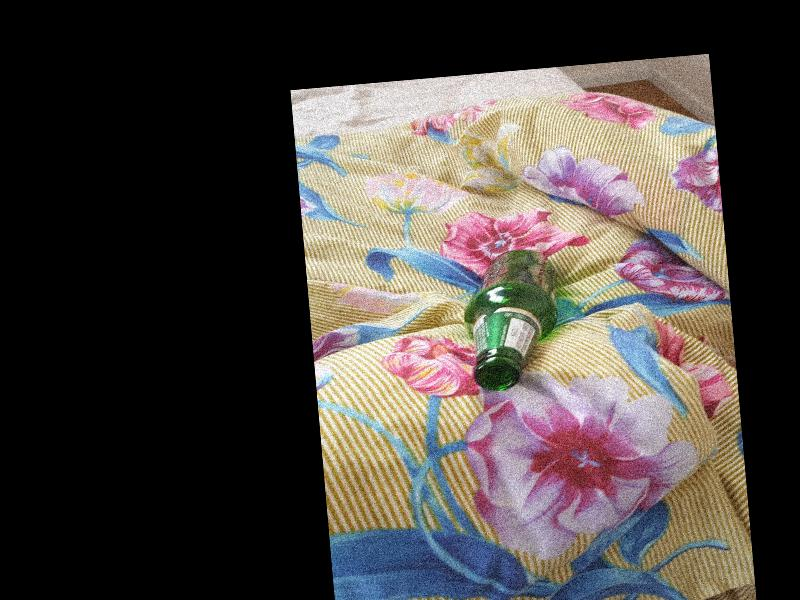Beer: (459, 247, 560, 393)
